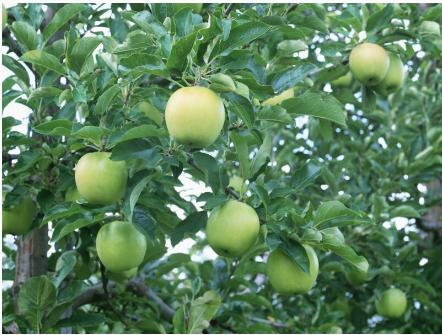apple: (163, 83, 225, 148), (206, 197, 259, 259), (75, 150, 129, 206), (264, 242, 318, 295), (95, 220, 146, 272), (347, 41, 389, 87), (1, 191, 36, 236), (374, 286, 407, 319), (380, 52, 402, 90)
